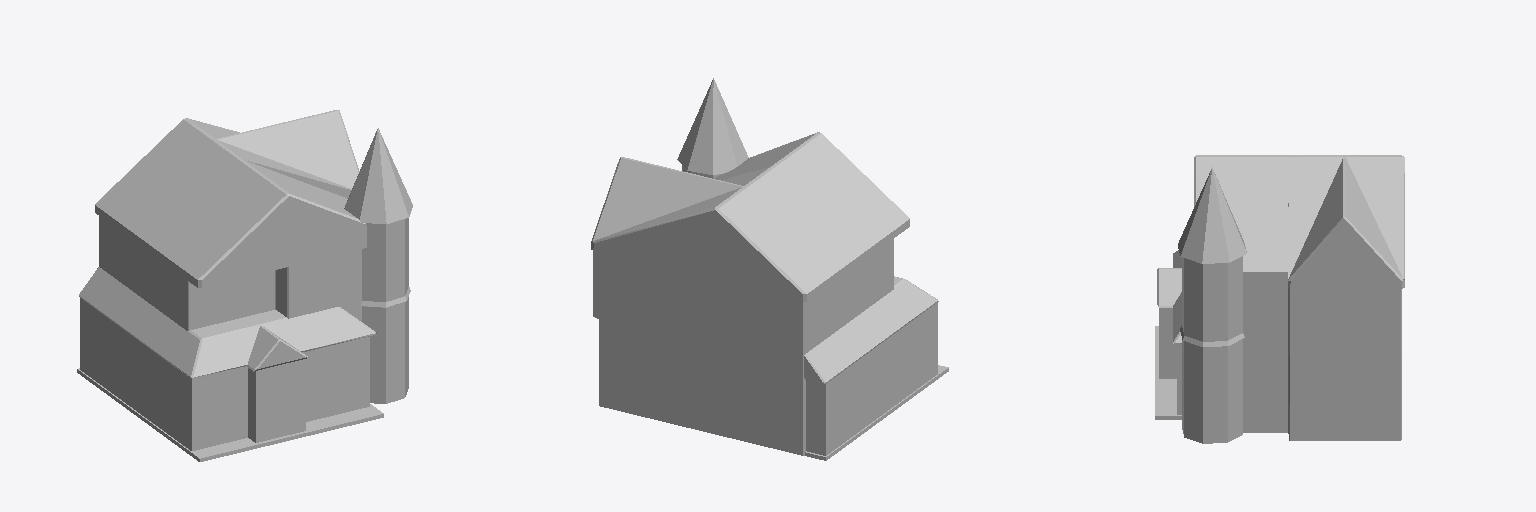
The model's file is hauntedhouse.obj.
3 renders of one model, left to right at view 1: azimuth 30°, elevation 25°; view 2: azimuth 150°, elevation 25°; view 3: azimuth 270°, elevation 25°, orthographic.
Visible parts, largest first — view 1: polySurface2; view 2: polySurface2; view 3: polySurface2.
Boxes of the visible parts, <box> form: polySurface2: <box>77,110,412,461</box>; polySurface2: <box>591,78,948,460</box>; polySurface2: <box>1155,155,1404,443</box>.
Bounding box in the file's own units: 668 × 710 × 608.